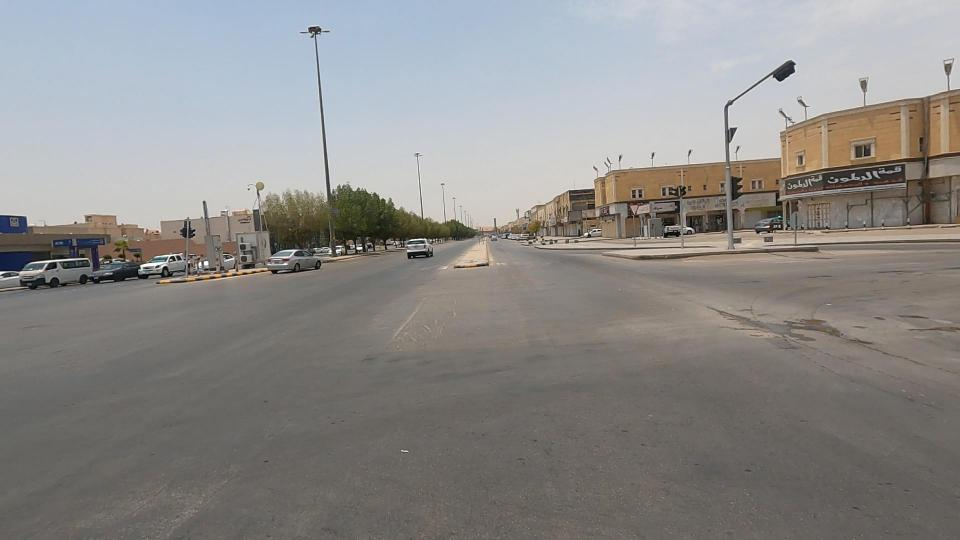BAD_BILLBOARD: (646, 177, 798, 225), (543, 196, 611, 232)
